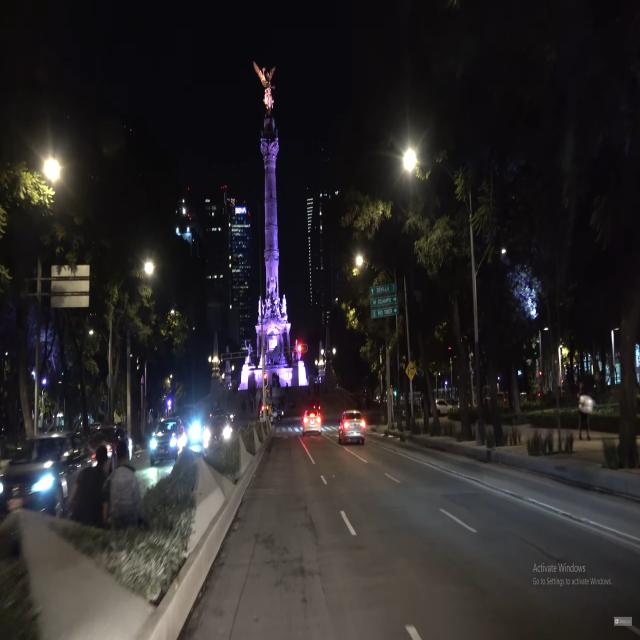headlights: (0, 466, 62, 508), (201, 419, 236, 445), (146, 432, 180, 456)
